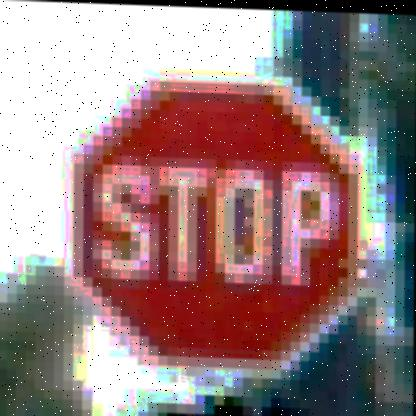Stop Sign: (58, 60, 382, 382)
